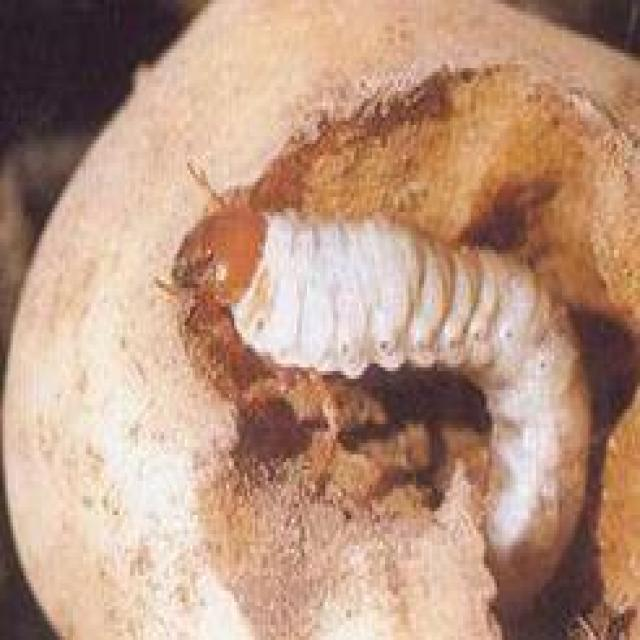Grub-Adult-: (156, 176, 606, 605)
